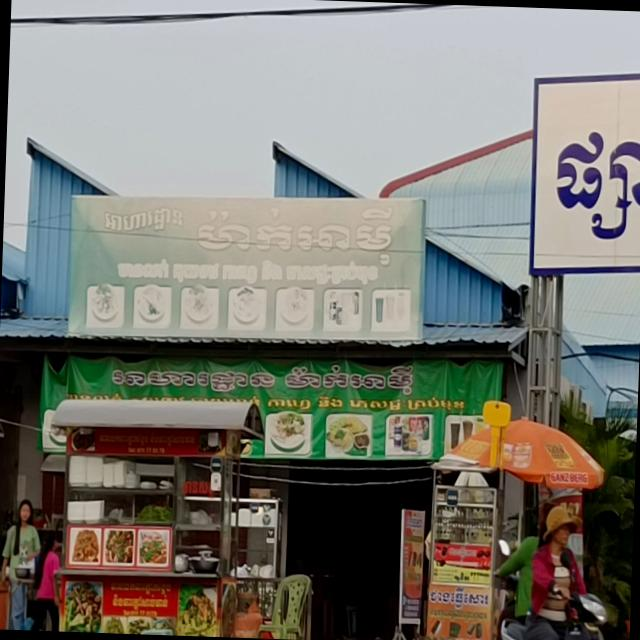1: (109, 355, 419, 399)
Yolov11kh: (190, 203, 399, 270), (101, 202, 184, 237), (426, 581, 492, 613)
